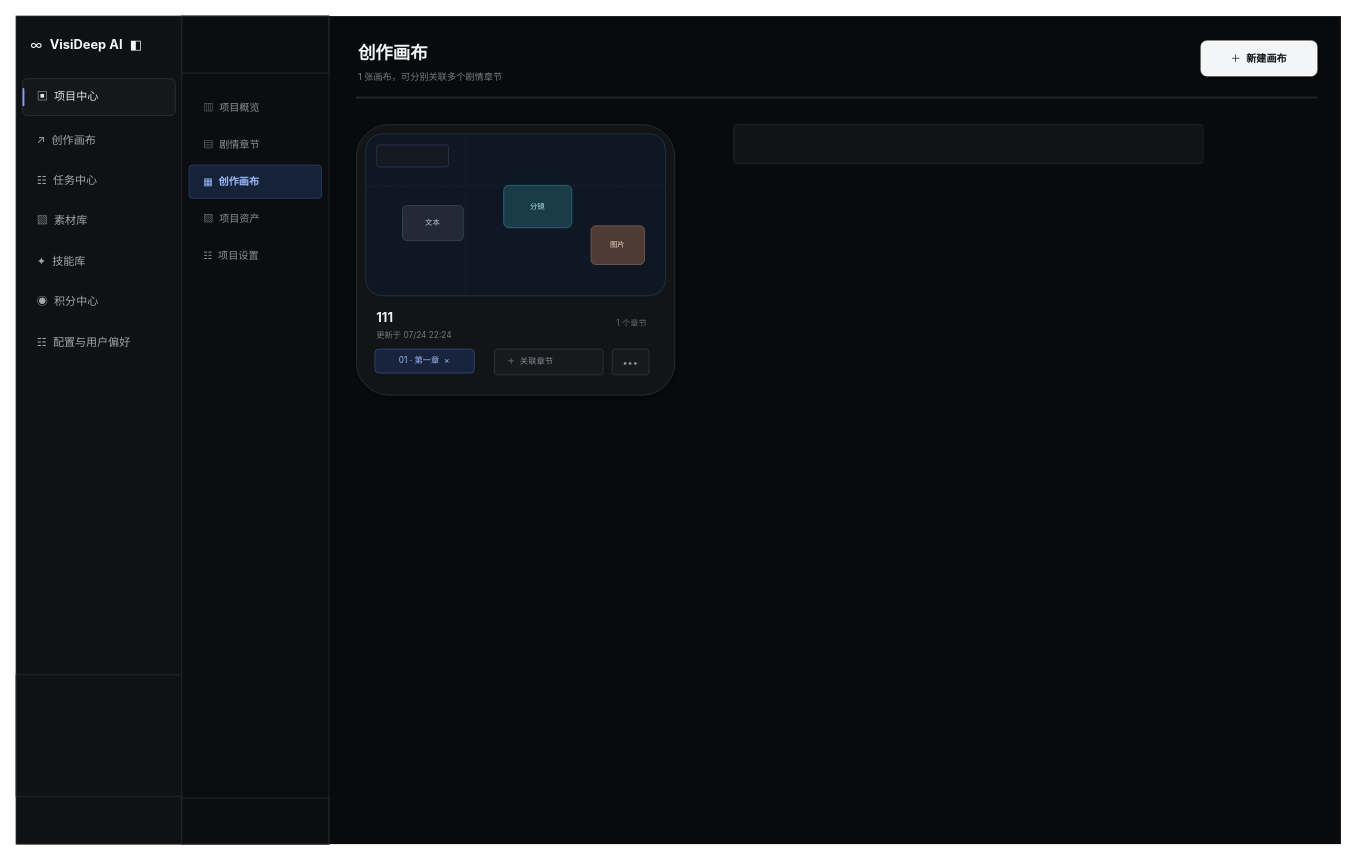
Image size: 1357x860. Some labels were removed from this diagram. Each missing label, with the centre of its shape:
"9:16 · 导入小说" goes at point 255,820.
"‹ ▱ 测试项目 1 ● 进行中" goes at point 255,44.
"▦ 画布 01" goes at point 412,155.
"◐ 深色模式 ● ♢ 系统公告 ▤ 更新日志" goes at point 98,735.
"布局未变 · 默认态优化：真实节点预览、分层表面、统一描边、单一蓝色交互色、管理动作降噪。" goes at point 968,143.
